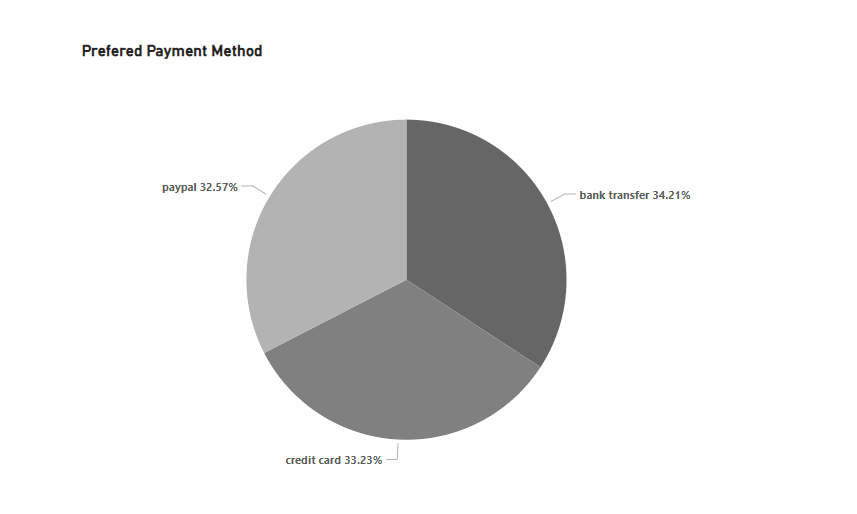

The page's visual inventory and layout, read from the dashboard file:
{"tool":"powerbi","page":{"name":"Prefered payment Method","canvas":[1280,720],"ordinal":1},"visuals":[{"type":"pieChart","title":"Prefered Payment Method","fields":{"Category":["payments.payment_method"],"Y":["Sum(payments.payment_amount)"]},"box":[265.6,113.3,710.8,495.5],"z":0}]}

Visuals, with their boxes on the page's 1280x720 design canvas (x1, y1, x2, y2). These are canvas units, not pixel positions in the 857x514 screenshot, which may show the page scaled, cropped or inside an application window:
"Prefered Payment Method" pieChart: locate(266, 113, 976, 609)
